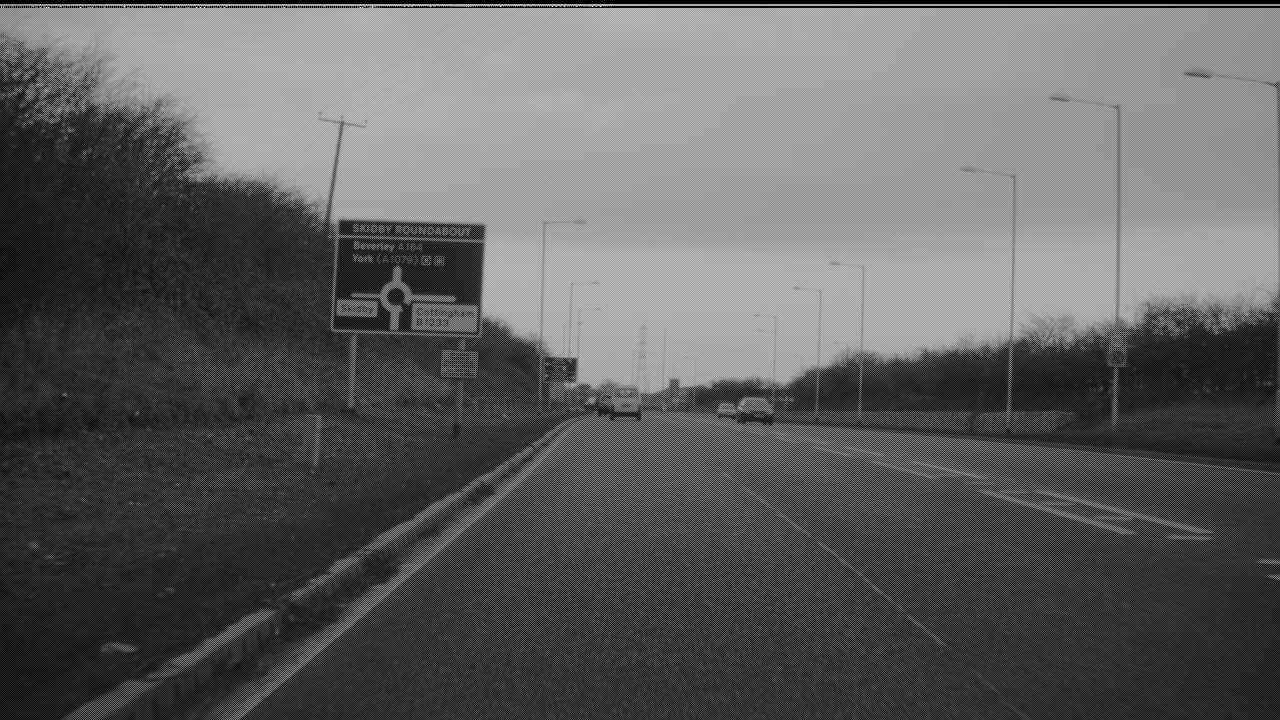pole: (1111, 102, 1121, 423), (1004, 169, 1016, 428), (537, 217, 545, 407), (856, 261, 864, 416), (814, 285, 821, 416)
